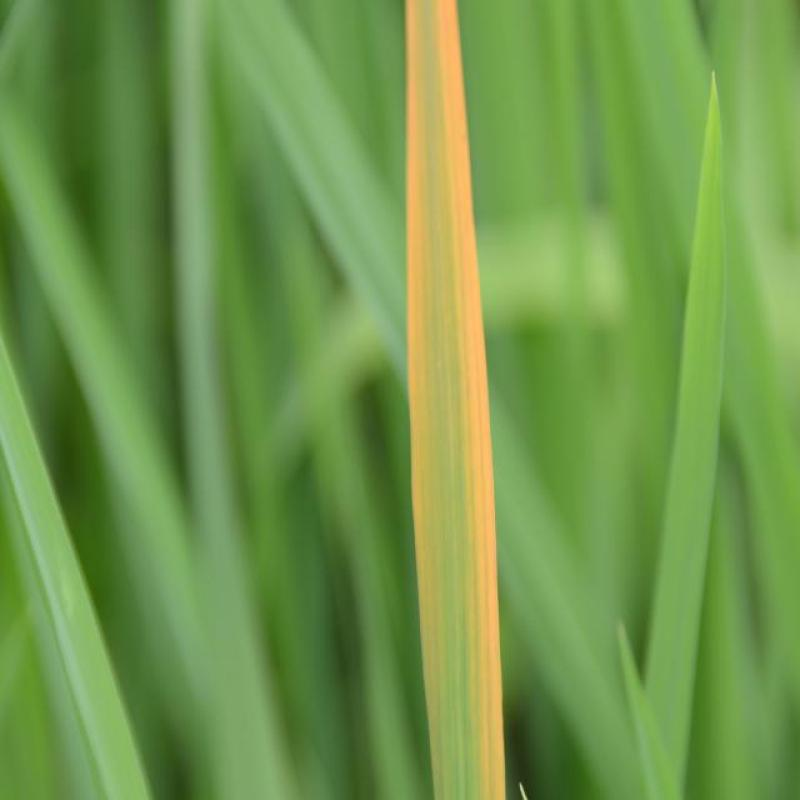Rice Tungro: (375, 10, 524, 762)
